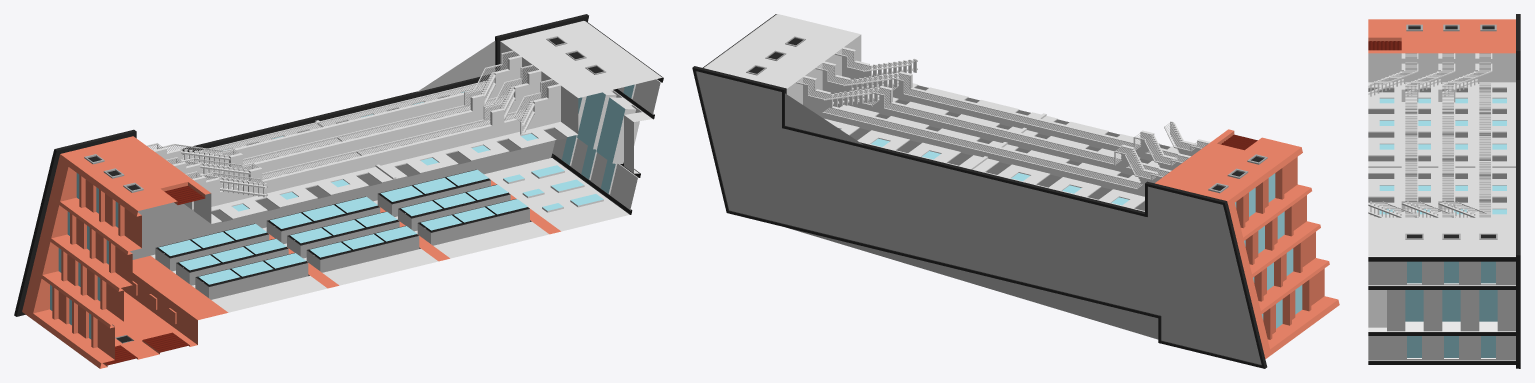
Rendered from Monaco Appartments Long.fbx.
3 views of the same model, side by side, from view 1: azimuth 30°, elevation 25°; view 2: azimuth 150°, elevation 25°; view 3: azimuth 270°, elevation 25° (orthographic). The views are drawn at different scales.
Visible parts, largest first — view 1: Cube.001; view 2: Cube.001; view 3: Cube.001.
Boxes of the visible parts, x1=… form: Cube.001: x1=14, y1=14, x2=663, y2=368; Cube.001: x1=692, y1=14, x2=1339, y2=368; Cube.001: x1=1368, y1=14, x2=1520, y2=368.
Size of the model in its own units: 61.76 by 16.64 by 15.01.
